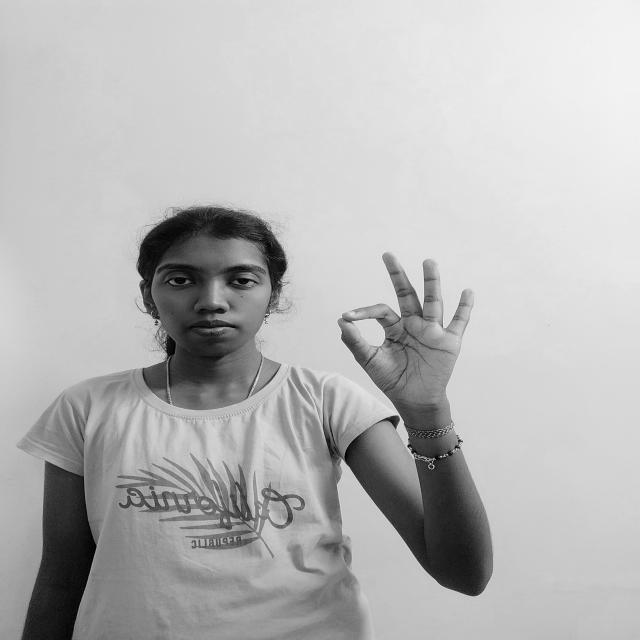Superb: (325, 245, 485, 426)
